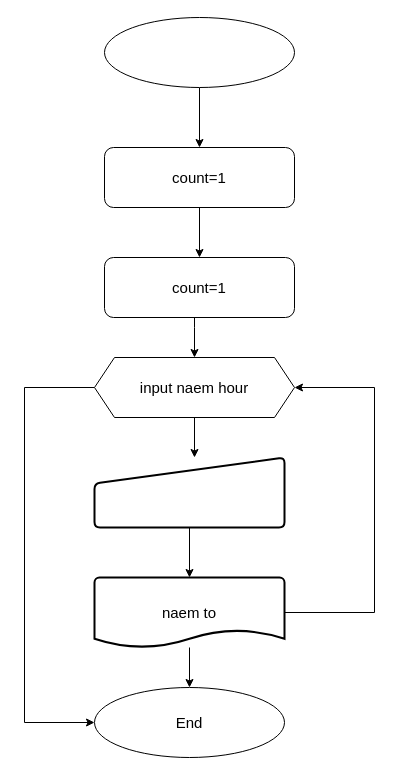
The diagram is 400 pixels wide and 775 high, and some of its shapes have lost their labels. Here are the shapes that lost their labels. From the top down, the box of each, then its label:
(104, 16, 294, 88): Start
(93, 456, 285, 528): OT=hour*300
